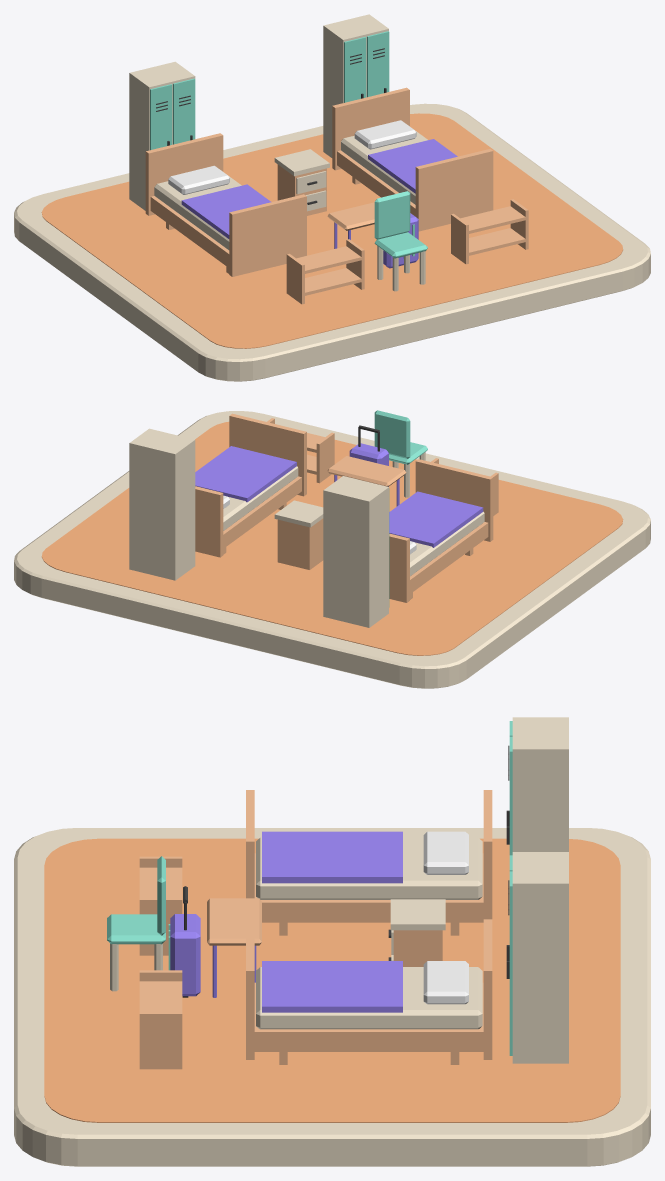
File: room.fbx
The picture shows the model from 3 angles, top to bottom: view 1: azimuth 30°, elevation 25°; view 2: azimuth 150°, elevation 25°; view 3: azimuth 270°, elevation 25°; orthographic projection. The views are drawn at different scales.
Parts seen in each view (by area): view 1: COM-02 Floor Surface, COM-01 Rounded Base Direct, End board, End board.002, Case, Case.001, End board.001, End board.003, Blanket, Blanket.001, Backrest, Mattress (+19 smaller); view 2: COM-02 Floor Surface, COM-01 Rounded Base Direct, Case.001, Case, Blanket.001, Blanket, End board, End board.002, Body, End board.003, Frame.001, Frame (+8 smaller); view 3: COM-02 Floor Surface, COM-01 Rounded Base Direct, Case.001, Case, Blanket, Blanket.001, Mattress.001, Mattress, Frame.001, Frame, Side.003, Rounded table top (+15 smaller).
Boxes of the visible parts, bbox=[...] form: COM-02 Floor Surface: bbox=[41, 113, 623, 348]; COM-01 Rounded Base Direct: bbox=[14, 103, 650, 381]; End board: bbox=[229, 194, 306, 276]; End board.002: bbox=[415, 149, 493, 231]; Case: bbox=[129, 61, 195, 210]; Case.001: bbox=[323, 14, 388, 157]; End board.001: bbox=[145, 133, 223, 215]; End board.003: bbox=[332, 87, 409, 170]; Blanket: bbox=[181, 184, 271, 238]; Blanket.001: bbox=[368, 139, 457, 193]; Backrest: bbox=[374, 191, 410, 239]; Mattress: bbox=[154, 169, 241, 250]; COM-02 Floor Surface: bbox=[41, 421, 623, 655]; COM-01 Rounded Base Direct: bbox=[14, 411, 650, 688]; Case.001: bbox=[129, 428, 195, 580]; Case: bbox=[323, 476, 388, 627]; Blanket.001: bbox=[195, 446, 296, 502]; Blanket: bbox=[389, 491, 483, 547]; End board: bbox=[415, 459, 493, 541]; End board.002: bbox=[229, 413, 306, 496]; Body: bbox=[277, 518, 323, 569]; End board.003: bbox=[195, 486, 223, 557]; Frame.001: bbox=[223, 476, 301, 548]; Frame: bbox=[410, 522, 488, 593]; COM-02 Floor Surface: bbox=[44, 838, 620, 1122]; COM-01 Rounded Base Direct: bbox=[14, 828, 650, 1166]; Case.001: bbox=[512, 852, 568, 1063]; Case: bbox=[512, 717, 568, 851]; Blanket: bbox=[262, 831, 402, 883]; Blanket.001: bbox=[262, 961, 402, 1012]; Mattress.001: bbox=[256, 967, 482, 1029]; Mattress: bbox=[256, 837, 482, 899]; Frame.001: bbox=[254, 982, 483, 1051]; Frame: bbox=[254, 853, 483, 922]; Side.003: bbox=[139, 1012, 182, 1069]; Rounded table top: bbox=[207, 898, 261, 945].
Size of the model in its own units: 600 by 192 by 520.
